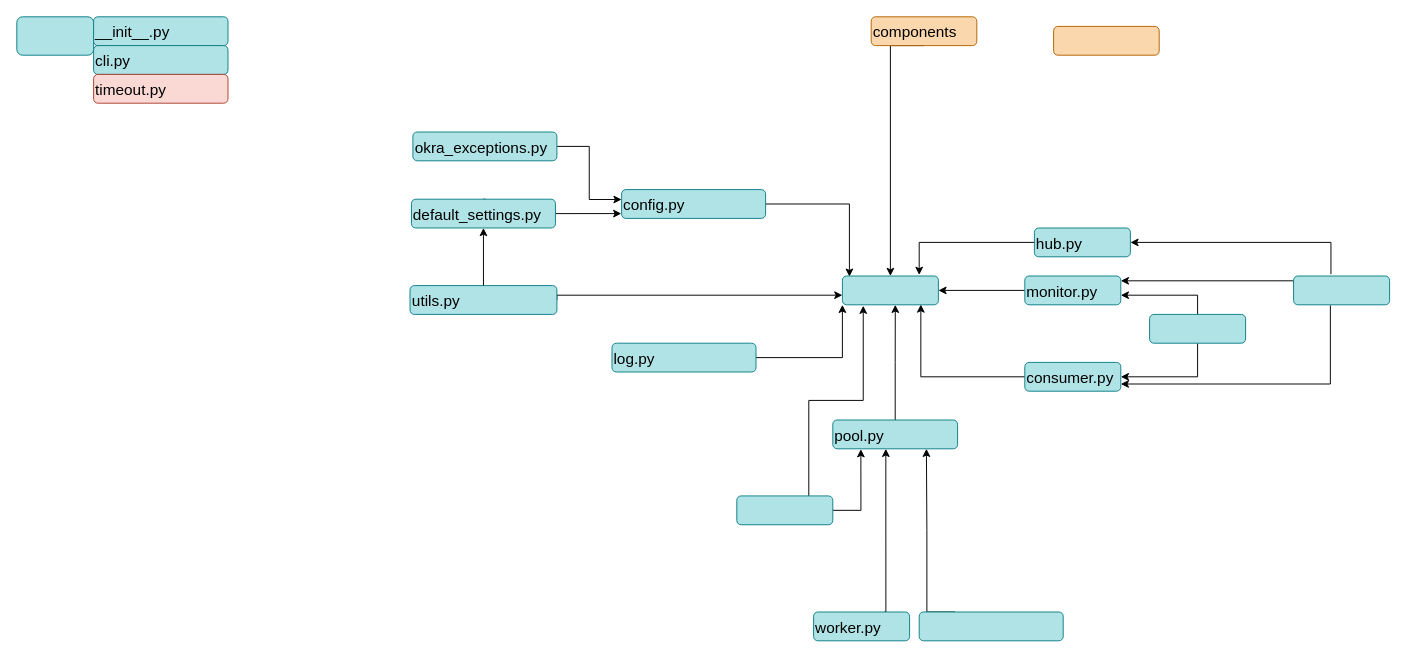
Image size: 1406x658. Some labels were removed from this diagram. Here are the shapes that lost their labels. From the top down, the box of each, then its label:
(16, 16, 94, 55): okra
(1053, 25, 1159, 55): concurrency
(841, 275, 938, 305): core.py
(1293, 275, 1390, 305): task.py
(1149, 313, 1246, 343): amqp.py
(736, 495, 833, 525): state.py
(918, 611, 1063, 641): variables.py
